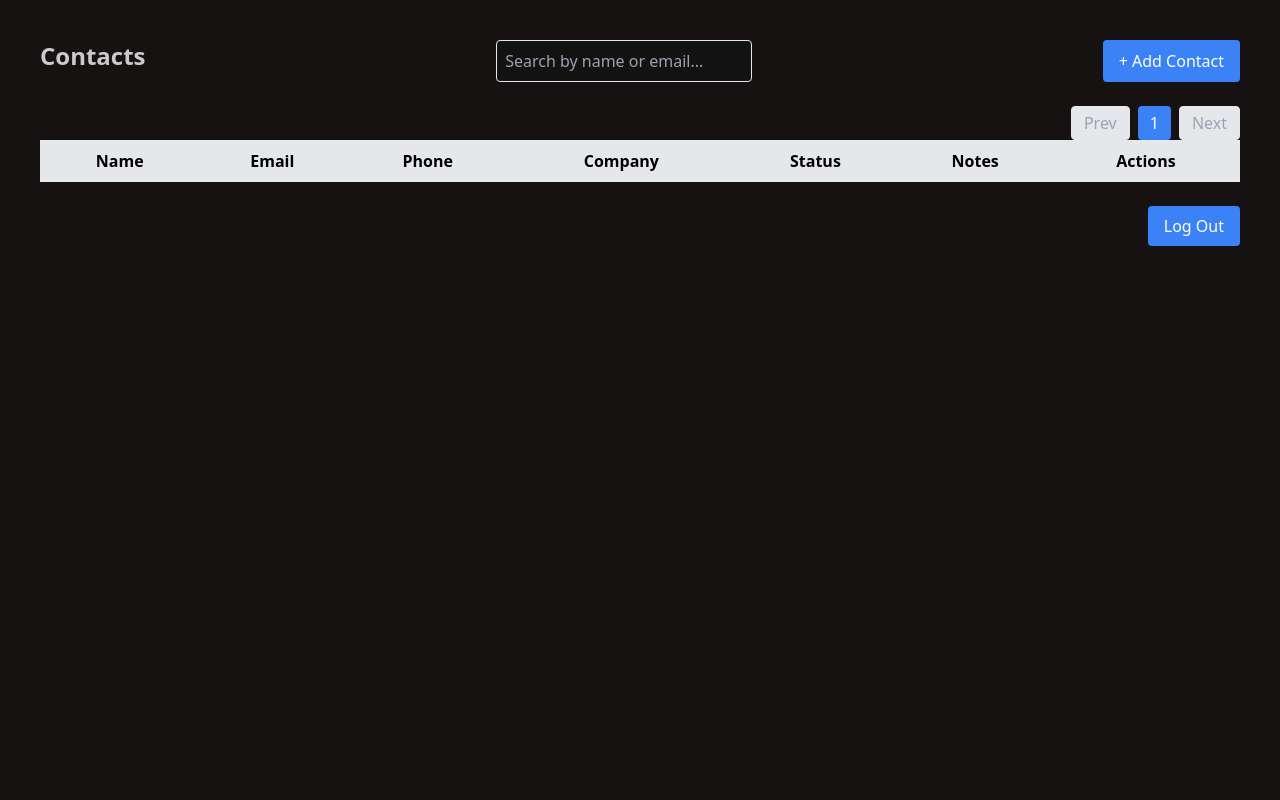
Test: HomePage Component › opens Add Contact modal
Click the button "+ Add Contact": {"x": 1171, "y": 61} [1103,40,1240,82]
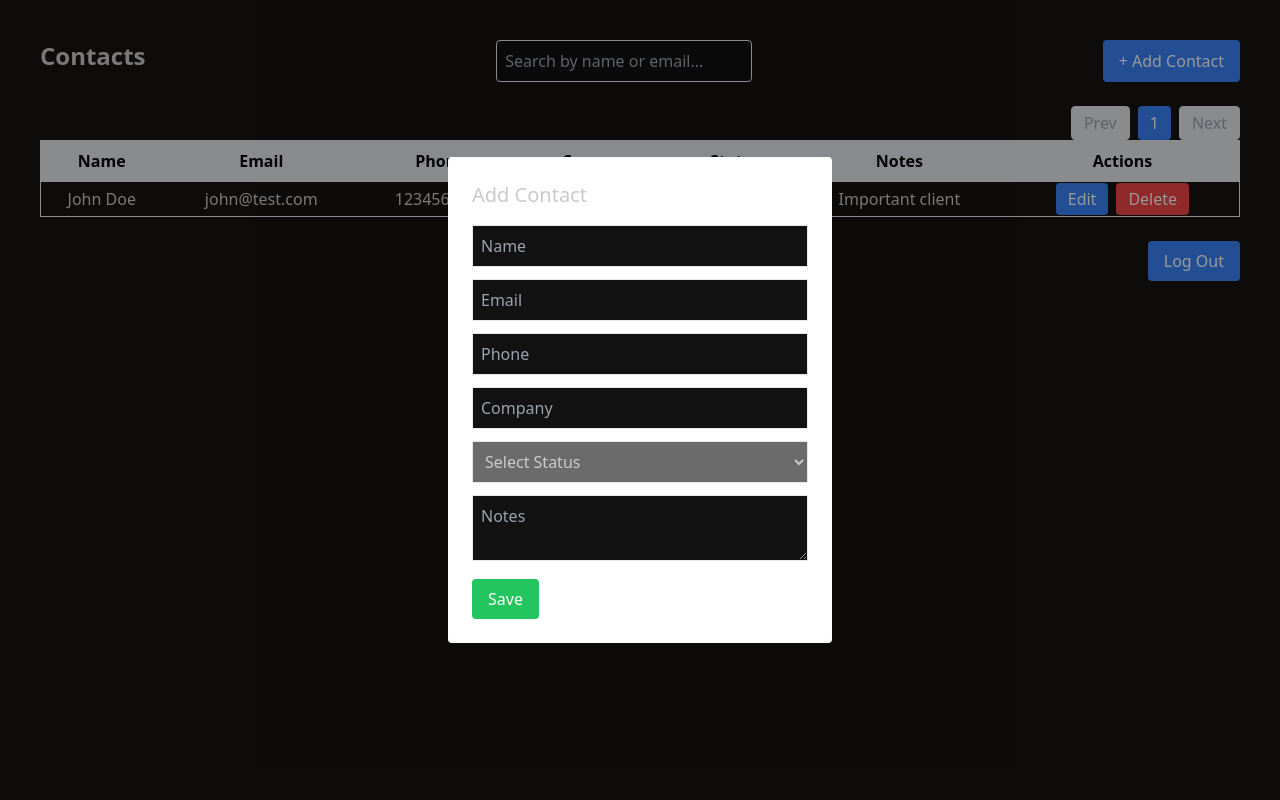
Check: the heading "Add Contact" is shown, box [472,181,587,208]
